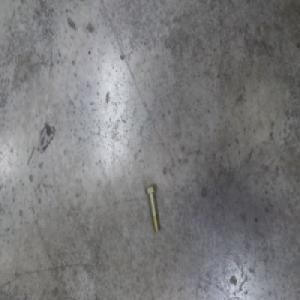Bolt: (145, 181, 161, 232)
